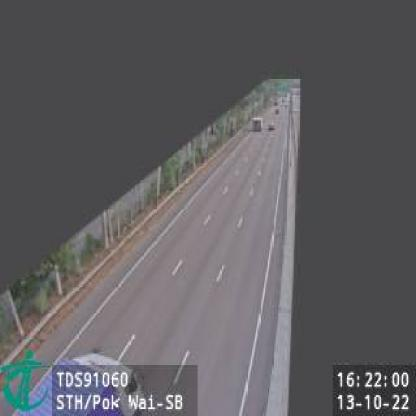Car: (251, 117, 262, 131)
